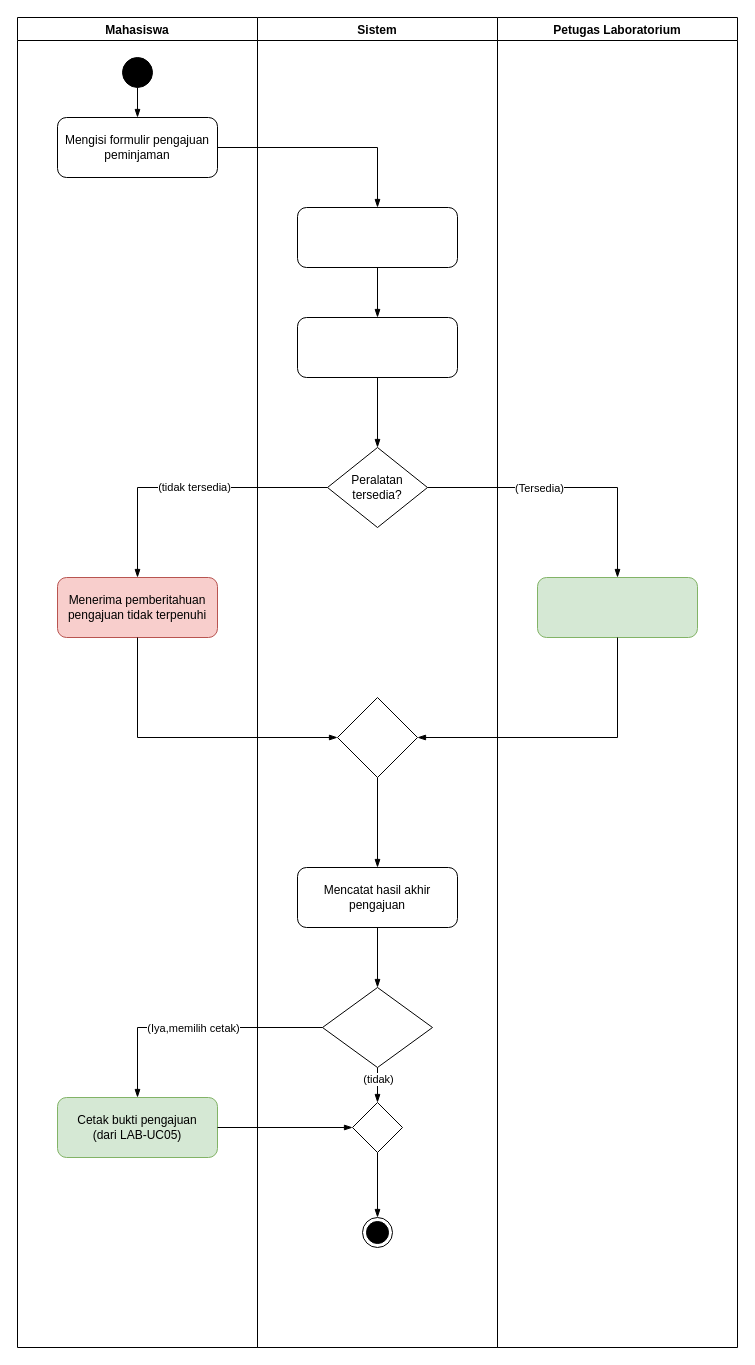
Some shapes in this 755 by 1365 pixel diagram are drawn without their labels. Each missing label, with the centre of its shape:
Mahasiswa mencetak bukti?: (x=377, y=1027)
Memproses keputusan peminjaman: (x=617, y=607)
Menyimpan data pengajuan peminjaman: (x=377, y=237)
Periksa ketersediaan (dari LAB-UC04): (x=377, y=347)
